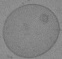small: (39, 12, 48, 23)
